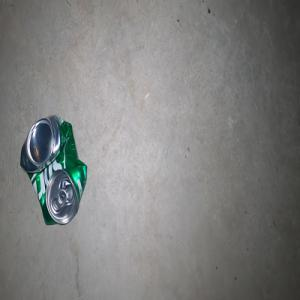SodaCan: (19, 114, 86, 225)
